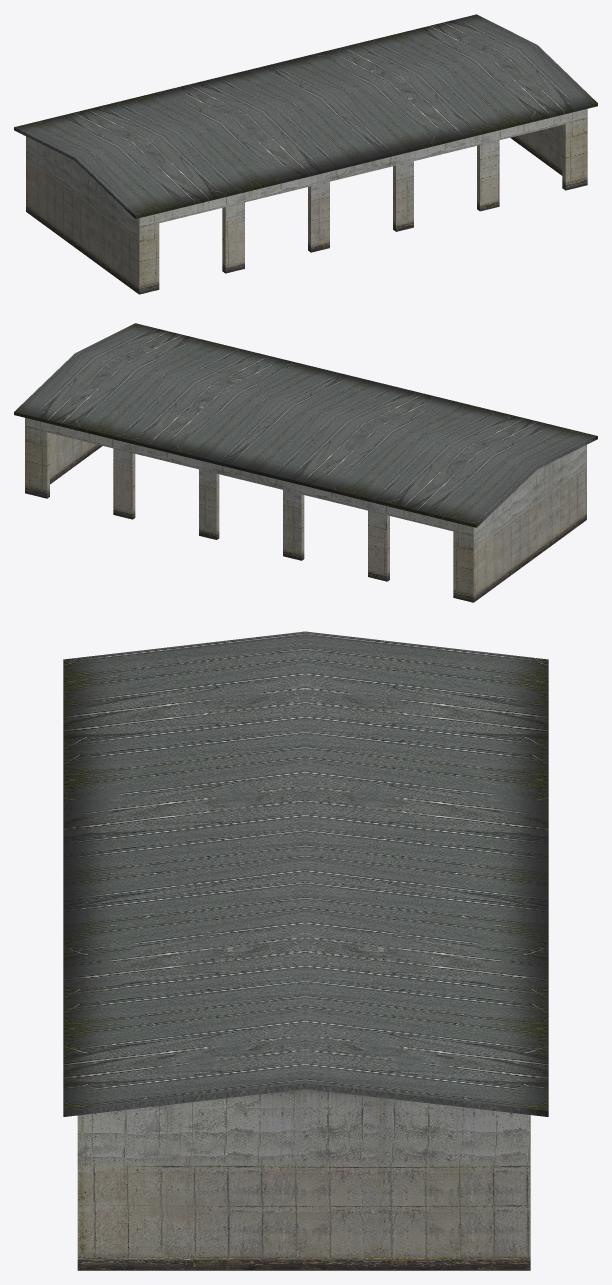
The model's file is r254_angar_ruina.FBX.
3 renders of one model, top to bottom at view 1: azimuth 30°, elevation 25°; view 2: azimuth 150°, elevation 25°; view 3: azimuth 270°, elevation 25°, orthographic. The views are drawn at different scales.
Visible parts, largest first — view 1: r254_angar_ruina; view 2: r254_angar_ruina; view 3: r254_angar_ruina.
Part boxes in pixels (x1,y1,x2,y2): r254_angar_ruina: [14, 14, 597, 294]; r254_angar_ruina: [14, 323, 597, 602]; r254_angar_ruina: [63, 631, 548, 1270].
Size of the model in its own units: 35 by 15.9 by 7.01.
